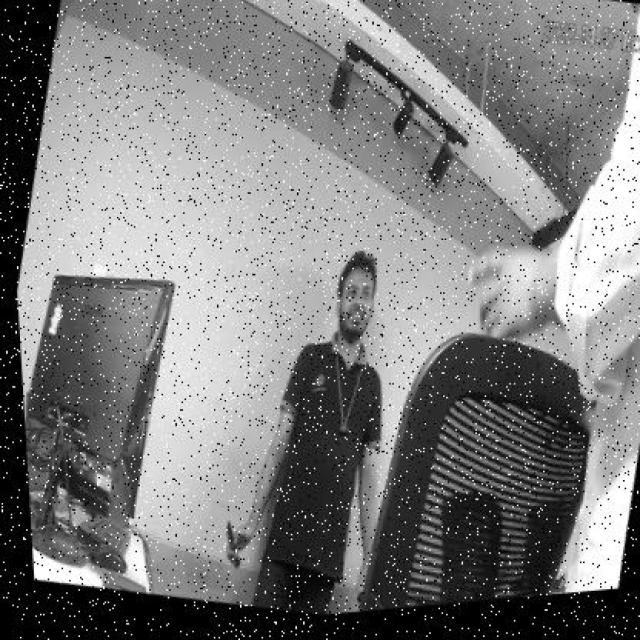weapon: (354, 590, 364, 604)
